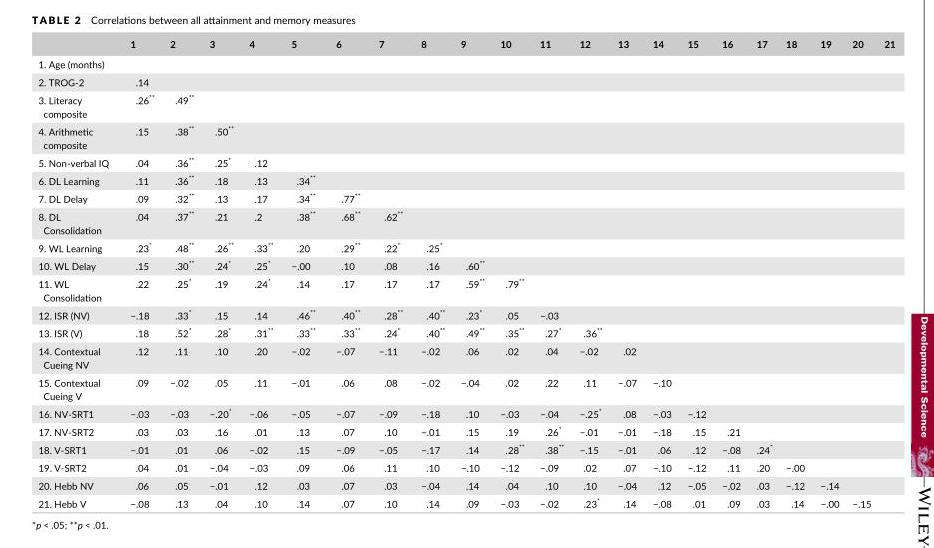table: (38, 37, 895, 508)
table column: (38, 37, 119, 508), (282, 37, 326, 508), (119, 37, 162, 508), (326, 37, 369, 508), (369, 37, 412, 508), (241, 37, 282, 508), (412, 37, 453, 508), (162, 37, 202, 508), (492, 37, 532, 508), (532, 37, 572, 508), (202, 37, 241, 508), (453, 37, 492, 508), (572, 37, 610, 508), (644, 37, 679, 508), (679, 37, 714, 508), (610, 37, 644, 508), (714, 37, 748, 508), (812, 37, 846, 508), (779, 37, 812, 508), (846, 37, 878, 508), (748, 37, 779, 508), (878, 37, 895, 508)
table column header: (38, 37, 895, 53)
table projected row header: (38, 53, 895, 72)
table row: (38, 89, 895, 121), (38, 121, 895, 152), (38, 206, 895, 237), (38, 273, 895, 304), (38, 341, 895, 372), (38, 372, 895, 403), (38, 53, 895, 72), (38, 322, 895, 341), (38, 439, 895, 458), (38, 152, 895, 170), (38, 170, 895, 188), (38, 188, 895, 206), (38, 237, 895, 255), (38, 255, 895, 273), (38, 304, 895, 322), (38, 403, 895, 421), (38, 421, 895, 439), (38, 458, 895, 476), (38, 72, 895, 89), (38, 476, 895, 493), (38, 37, 895, 53), (38, 493, 895, 508)
